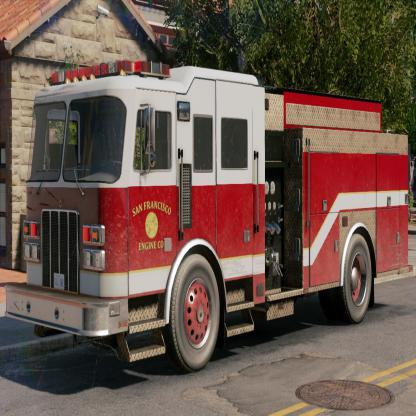fire-truck: (4, 36, 416, 376)
